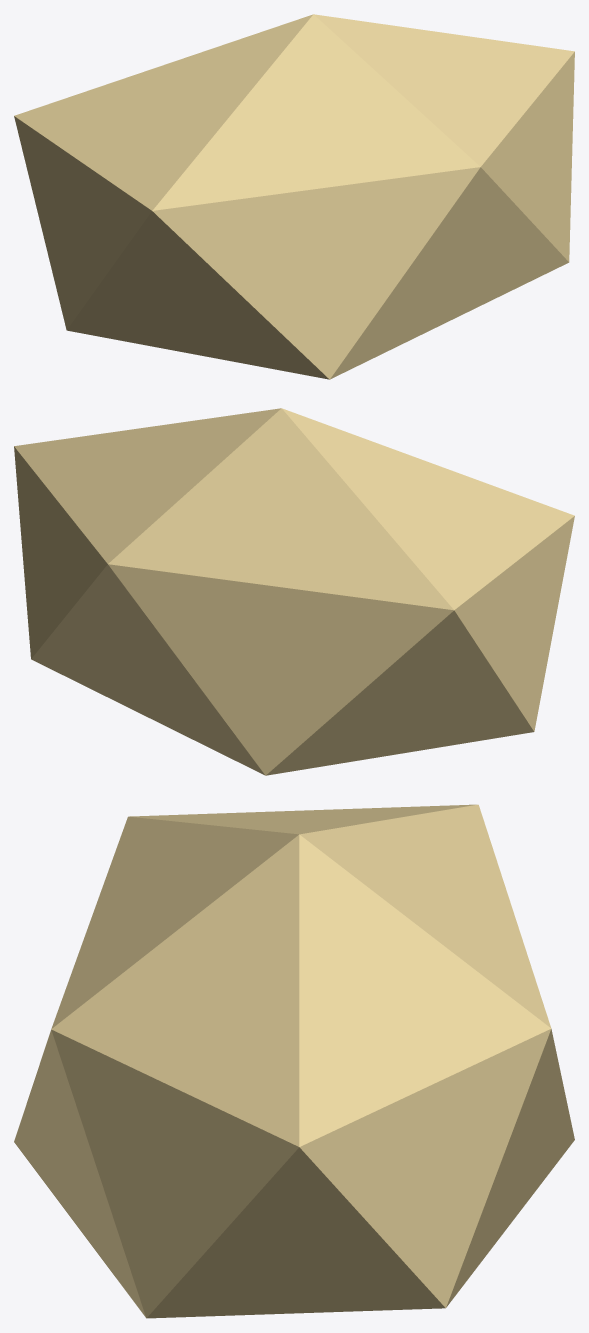
The model's file is item_063_lentil_s.glb.
The picture shows the model from 3 angles, top to bottom: view 1: azimuth 30°, elevation 25°; view 2: azimuth 150°, elevation 25°; view 3: azimuth 270°, elevation 25°; orthographic projection. The views are drawn at different scales.
Parts seen in each view (by area): view 1: item_063_lentil_s; view 2: item_063_lentil_s; view 3: item_063_lentil_s.
Boxes of the visible parts, x1=… form: item_063_lentil_s: x1=14, y1=14, x2=574, y2=379; item_063_lentil_s: x1=14, y1=408, x2=574, y2=775; item_063_lentil_s: x1=14, y1=804, x2=574, y2=1318.
Size of the model in its own units: 0.3157 by 0.1972 by 0.2204.
